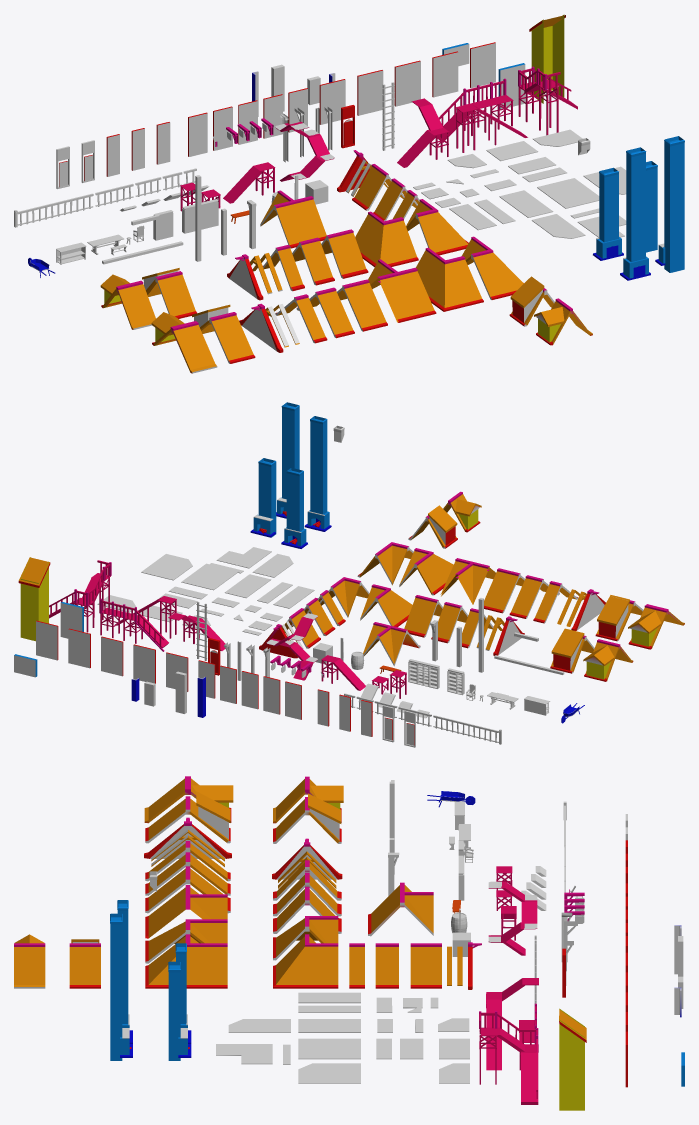
File: medieval_house_full2_colliders.fbx
The picture shows the model from 3 angles, top to bottom: view 1: azimuth 30°, elevation 25°; view 2: azimuth 150°, elevation 25°; view 3: azimuth 270°, elevation 25°; orthographic projection. The views are drawn at different scales.
Parts seen in each view (by area): view 1: chimney_outside_size2_coll, chimney_inside_size2_coll, roof_intersection_wide_1_3_inv_coll, roof_intersection_wide_1_2_inv_coll, roof_intersection_wide_1_3x2_coll, roof_intersection_wide_1_2x2_coll, exterior_build_coll, roof_dolmer_wide3_2_coll, chimney_inside_size1_coll, roof_dolmer_wide3_1_coll, roof_intersection_wide_1_3_coll, staircase_set2_coll (+46 smaller); view 2: chimney_inside_size2_coll, exterior_build_coll, chimney_outside_size1_coll, chimney_outside_size2_coll, chimney_inside_size1_coll, staircase_set3_coll, roof_intersection_wide_1_3_inv_coll, staircase_set2_coll, roof_dolmer_wide3_1_coll, roof_dolmer_wide3_2_coll, roof_dolmer_wide2_1_coll, roof_intersection_wide_1_3x2_coll (+35 smaller); view 3: roof_intersection_wide_1_3_coll, roof_intersection_wide_1_2_coll, exterior_build_coll, staircase_set2_coll, chimney_outside_size2_coll, roof_intersection_wide_1_3x2_coll, roof_dolmer_wide3_1_coll, roof_intersection_wide_1_3_inv_coll, roof_intersection_wide_1_2x2_coll, roof_dolmer_wide1_2_coll, roof_dolmer_wide1_1_coll, roof_dolmer_wide2_1_coll (+28 smaller).
Part boxes in pixels (<box>): chimney_outside_size2_coll: <box>655,136,684,272</box>; chimney_inside_size2_coll: <box>620,147,650,280</box>; roof_intersection_wide_1_3_inv_coll: <box>416,247,483,311</box>; roof_intersection_wide_1_2_inv_coll: <box>355,211,418,267</box>; roof_intersection_wide_1_3x2_coll: <box>368,259,436,322</box>; roof_intersection_wide_1_2x2_coll: <box>260,190,326,248</box>; exterior_build_coll: <box>529,14,565,103</box>; roof_dolmer_wide3_2_coll: <box>151,312,217,373</box>; chimney_inside_size1_coll: <box>593,167,623,260</box>; roof_dolmer_wide3_1_coll: <box>192,304,255,363</box>; roof_intersection_wide_1_3_coll: <box>462,236,523,299</box>; staircase_set2_coll: <box>518,66,577,135</box>; chimney_inside_size2_coll: <box>304,416,331,531</box>; exterior_build_coll: <box>18,557,50,641</box>; chimney_outside_size1_coll: <box>250,458,276,537</box>; chimney_outside_size2_coll: <box>276,402,299,518</box>; chimney_inside_size1_coll: <box>281,467,307,548</box>; staircase_set3_coll: <box>100,598,168,651</box>; roof_intersection_wide_1_3_inv_coll: <box>399,548,453,595</box>; staircase_set2_coll: <box>49,560,111,632</box>; roof_dolmer_wide3_1_coll: <box>595,595,643,641</box>; roof_dolmer_wide3_2_coll: <box>628,604,684,649</box>; roof_dolmer_wide2_1_coll: <box>550,628,594,673</box>; roof_intersection_wide_1_3x2_coll: <box>440,558,495,604</box>; roof_intersection_wide_1_3_coll: <box>145,934,227,988</box>; roof_intersection_wide_1_2_coll: <box>273,934,338,988</box>; exterior_build_coll: <box>559,1008,586,1110</box>; staircase_set2_coll: <box>479,1011,538,1104</box>; chimney_outside_size2_coll: <box>110,913,132,1060</box>; roof_intersection_wide_1_3x2_coll: <box>145,885,227,938</box>; roof_dolmer_wide3_1_coll: <box>145,791,230,843</box>; roof_intersection_wide_1_3_inv_coll: <box>145,919,227,963</box>; roof_intersection_wide_1_2x2_coll: <box>368,882,433,936</box>; roof_dolmer_wide1_2_coll: <box>14,934,45,988</box>; roof_dolmer_wide1_1_coll: <box>69,939,100,988</box>; roof_dolmer_wide2_1_coll: <box>273,793,341,843</box>.
Bounding box in the file's own units: 46.44 × 43 × 10.52.
